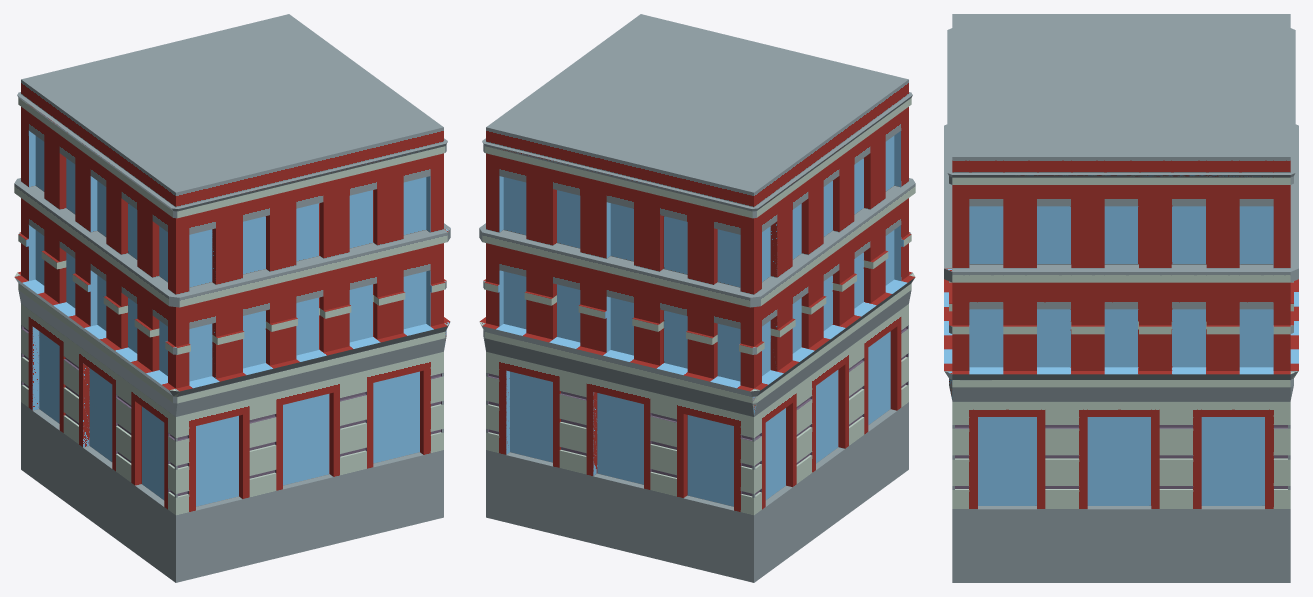
Rendered from building1.glb.
3 views of the same model, side by side, from view 1: azimuth 30°, elevation 25°; view 2: azimuth 150°, elevation 25°; view 3: azimuth 270°, elevation 25° (orthographic). The views are drawn at different scales.
Visible parts, largest first — view 1: 1; view 2: 1; view 3: 1.
Part boxes in pixels (<box>): 1: <box>14,14,450,582</box>; 1: <box>479,14,915,582</box>; 1: <box>944,14,1298,582</box>.
Size of the model in its own units: 10.5 by 13.91 by 10.5.
5 materials, 4 textured.
